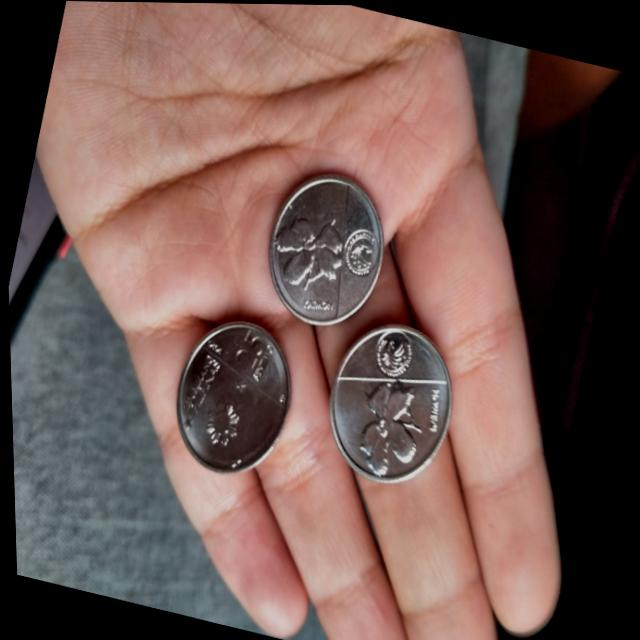25Cent_New_Back: (346, 374, 433, 476), (266, 200, 350, 299)
25Cent_New_Front: (224, 326, 282, 386)
